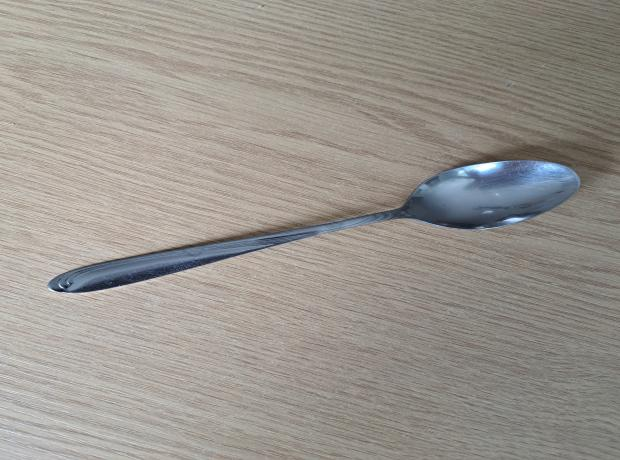metal: (40, 157, 576, 292)
